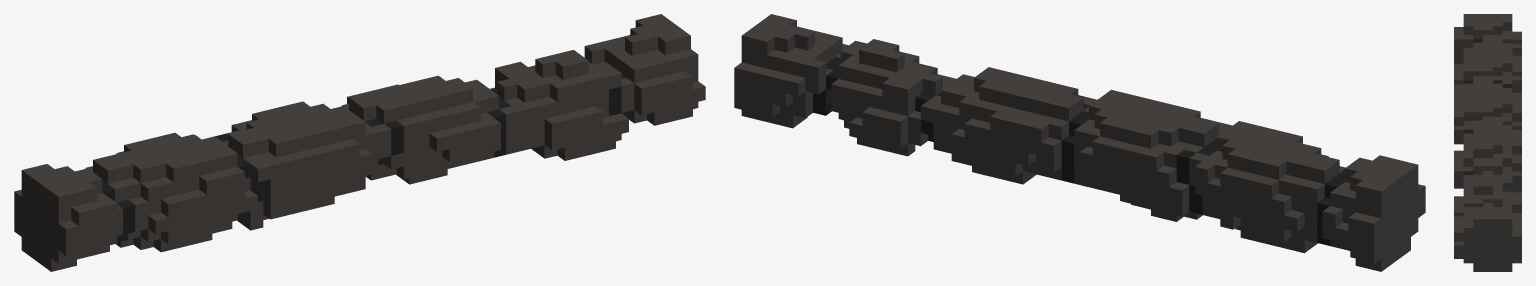
Rendered from Sideboard.fbx.
The picture shows the model from 3 angles, left to right: view 1: azimuth 30°, elevation 25°; view 2: azimuth 150°, elevation 25°; view 3: azimuth 270°, elevation 25°; orthographic projection. The views are drawn at different scales.
Visible parts, largest first — view 1: Sideboard; view 2: Sideboard; view 3: Sideboard.
Boxes of the visible parts, x1,y1,x2,y2 form: Sideboard: [14, 14, 705, 271]; Sideboard: [734, 14, 1425, 271]; Sideboard: [1454, 14, 1521, 271].
Size of the model in its own units: 500 by 60 by 70.
Materials: 1 (1 with a texture image).
